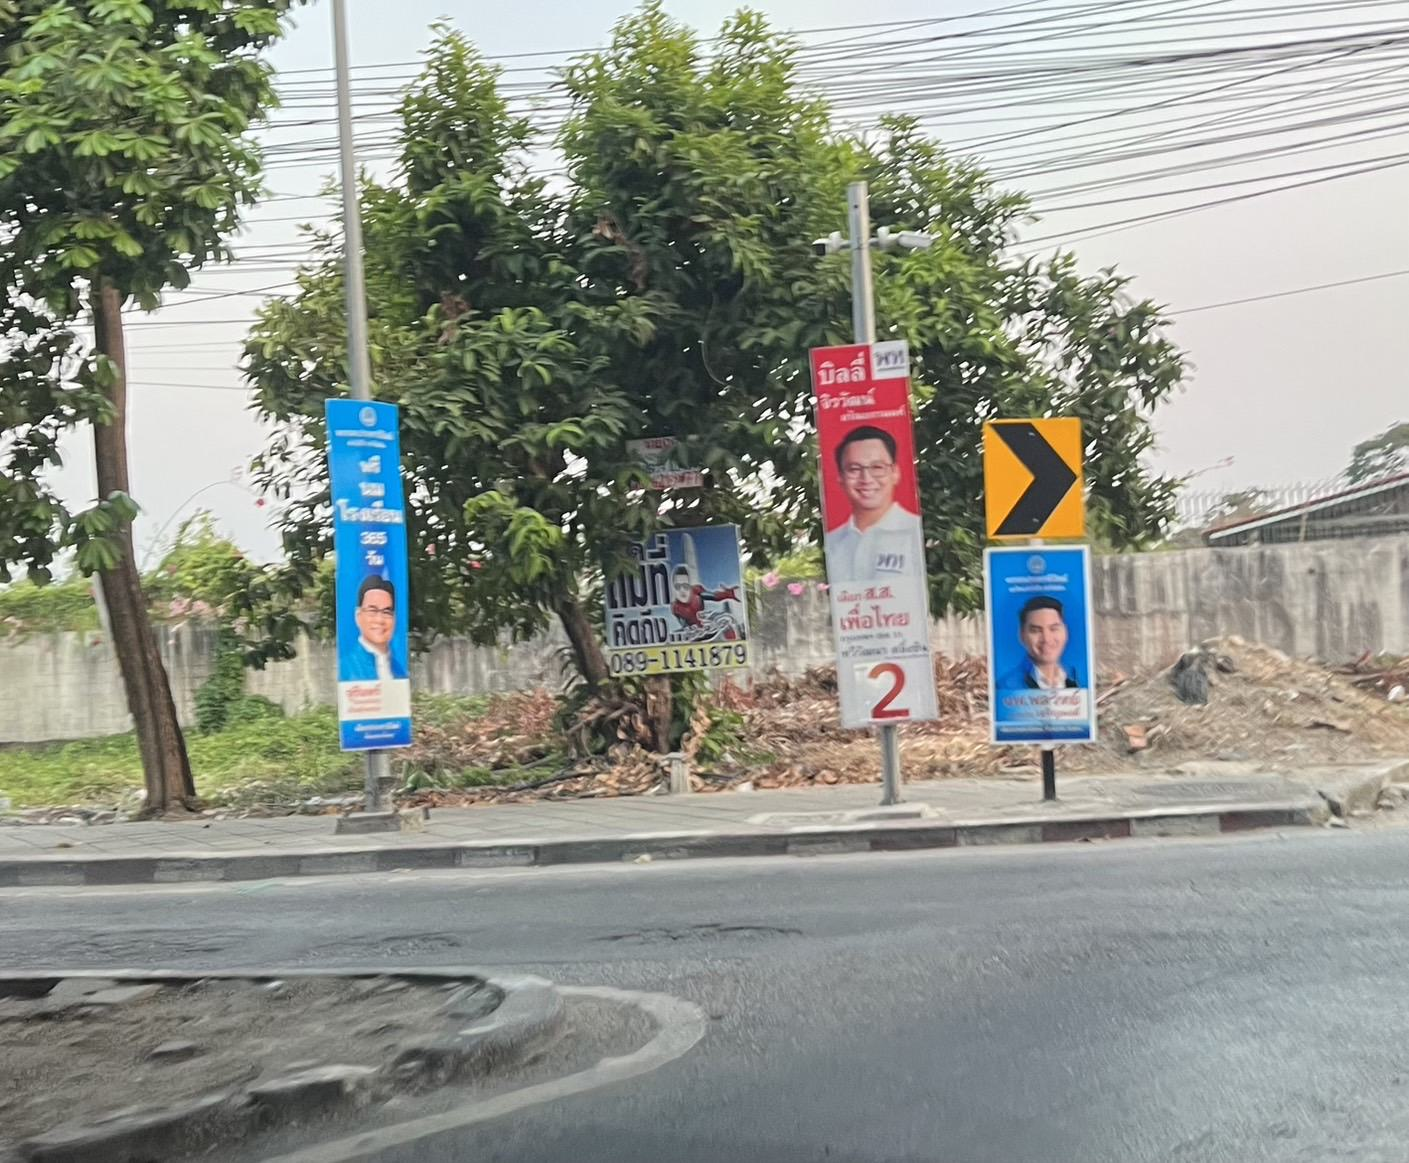Banner: (810, 347, 925, 713), (327, 394, 429, 757), (982, 548, 1088, 748)
